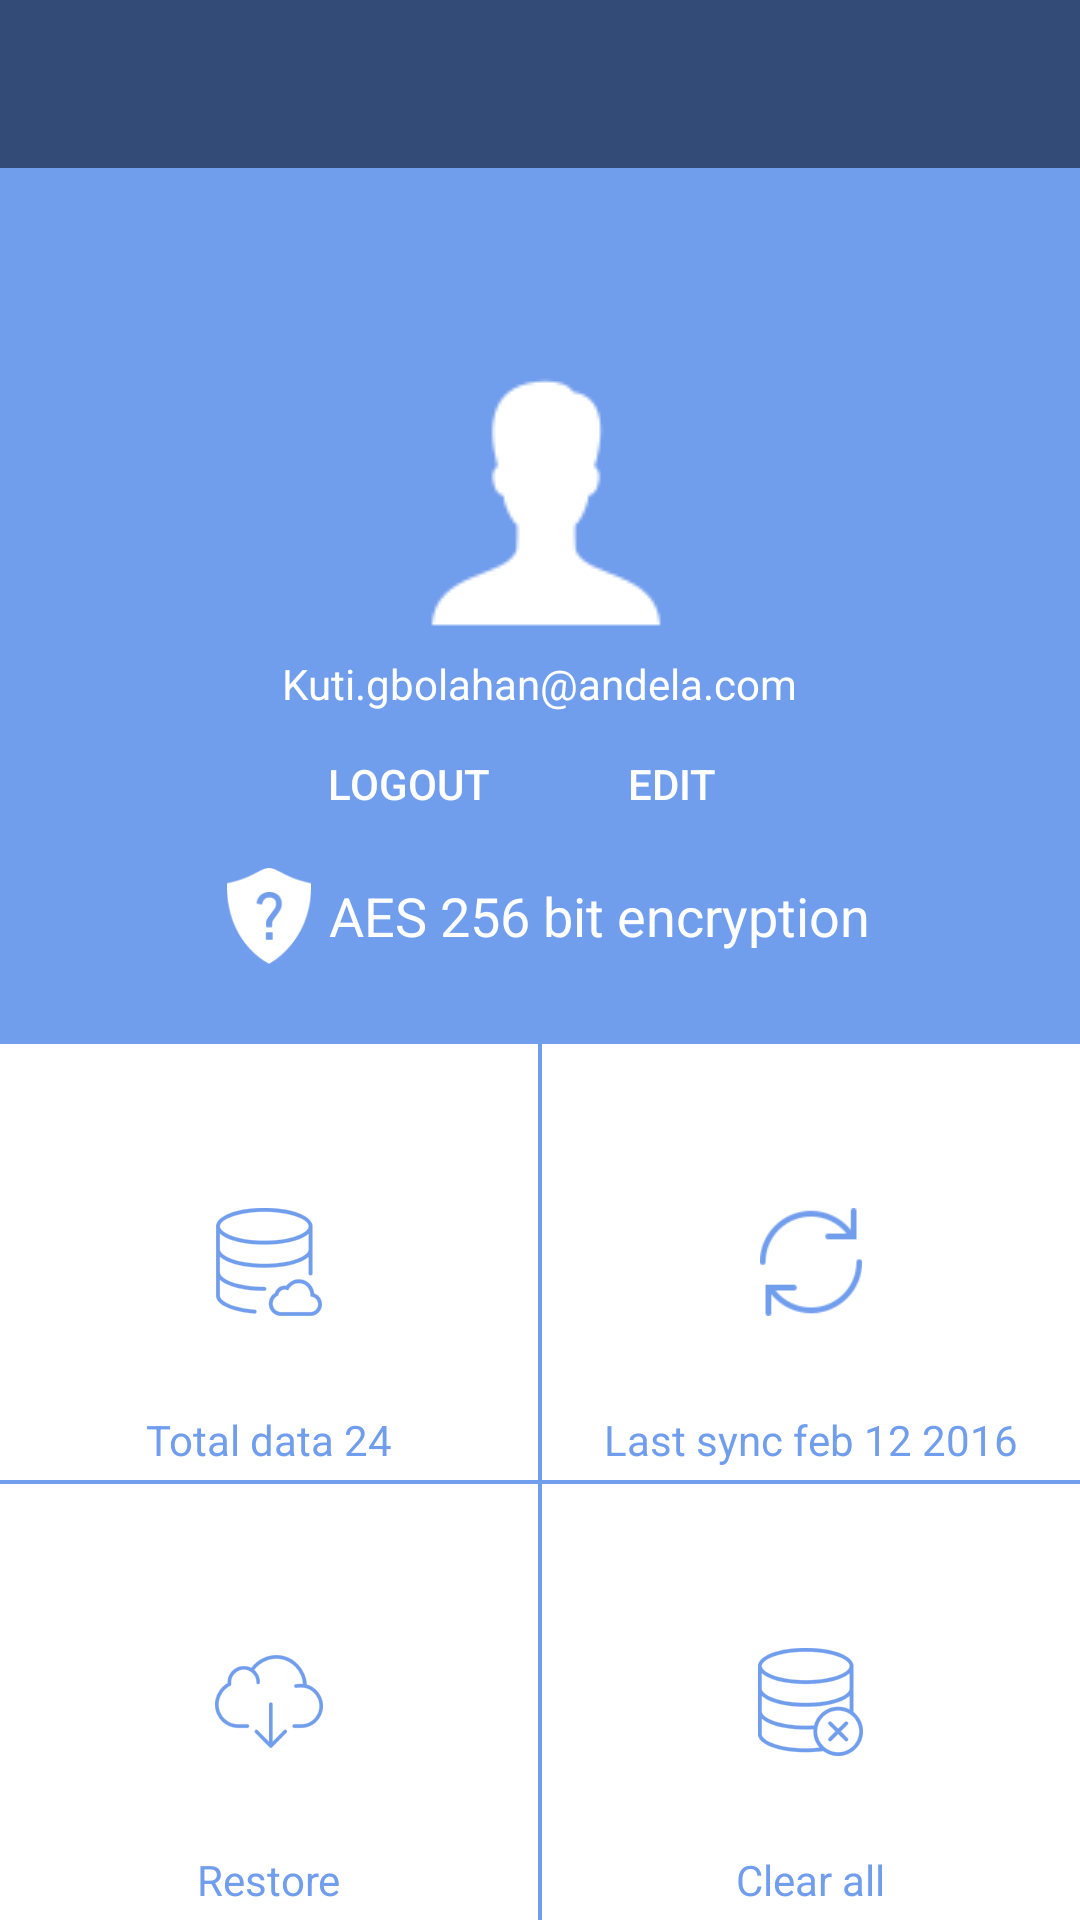

Icons on this 1080 x 1920 Android screen, each with the point to tap as point (x, y):
database: point (269, 1262)
deletedatabase: point (810, 1702)
question shield: point (269, 916)
synchronize: point (811, 1262)
user: point (546, 503)
